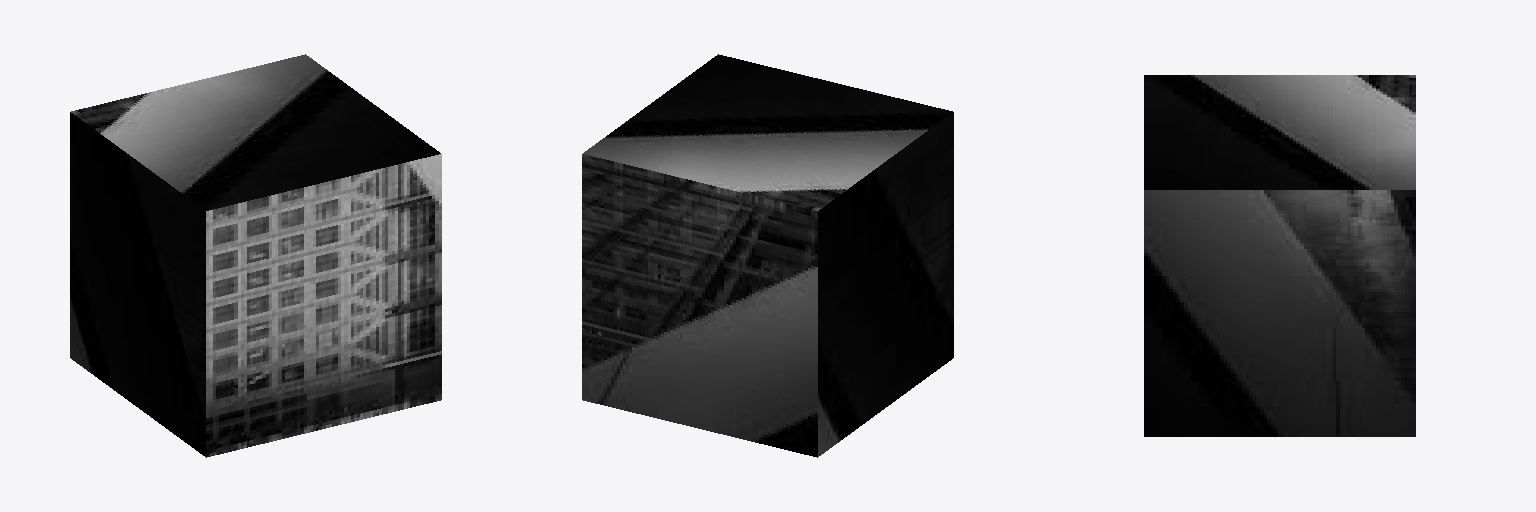
3 views of the same model, side by side, from view 1: azimuth 30°, elevation 25°; view 2: azimuth 150°, elevation 25°; view 3: azimuth 270°, elevation 25° (orthographic).
Parts seen in each view (by area): view 1: Cube; view 2: Cube; view 3: Cube.
Part boxes in pixels (bbox=[...]): Cube: bbox=[70, 54, 441, 457]; Cube: bbox=[582, 54, 953, 457]; Cube: bbox=[1144, 75, 1415, 436].
Size of the model in its own units: 2 by 2 by 2.
Materials: 1 (1 with a texture image).